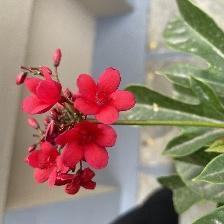jatropha: (74, 67, 136, 125), (56, 121, 119, 170), (27, 139, 70, 189)
